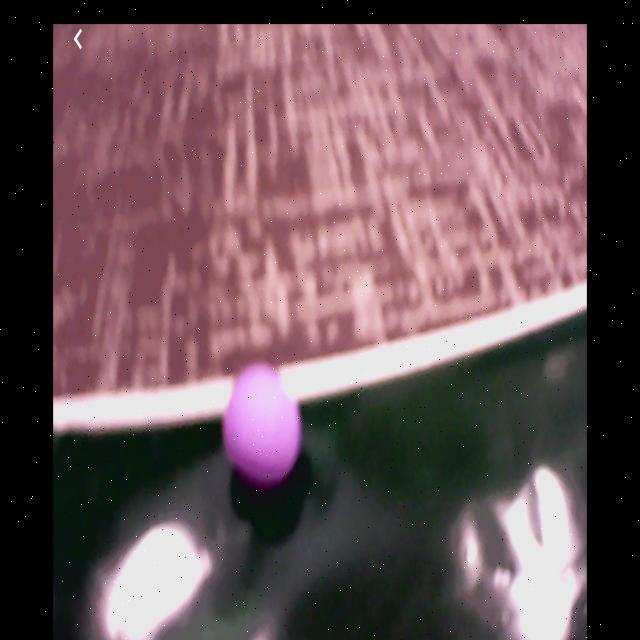ball: (221, 365, 305, 490)
